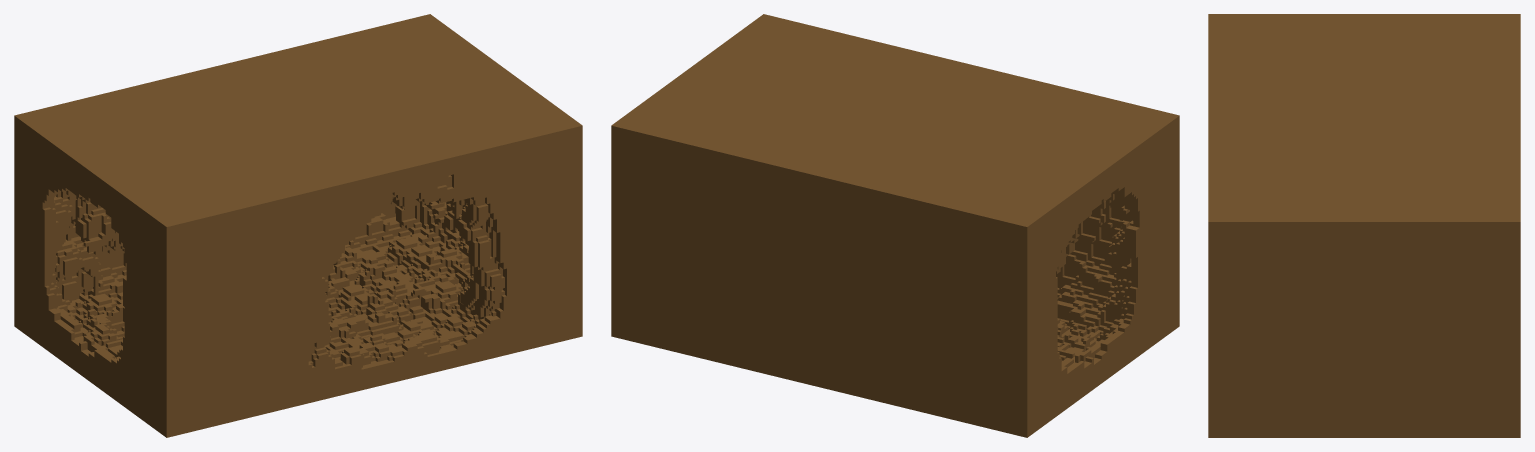
File: Level 1 Pathway 1.4.obj
3 views of the same model, side by side, from view 1: azimuth 30°, elevation 25°; view 2: azimuth 150°, elevation 25°; view 3: azimuth 270°, elevation 25° (orthographic). The views are drawn at different scales.
Size of the model in its own units: 126 by 61 by 80.
1 material, 1 textured.
